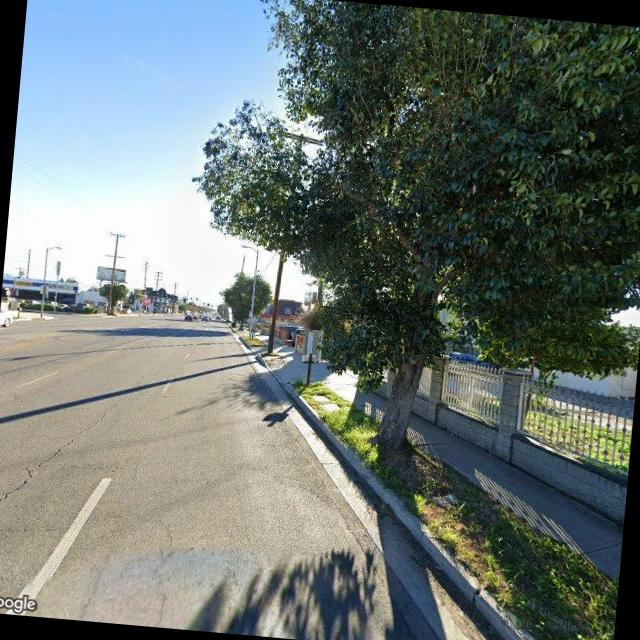pothole: (0, 379, 127, 538)
